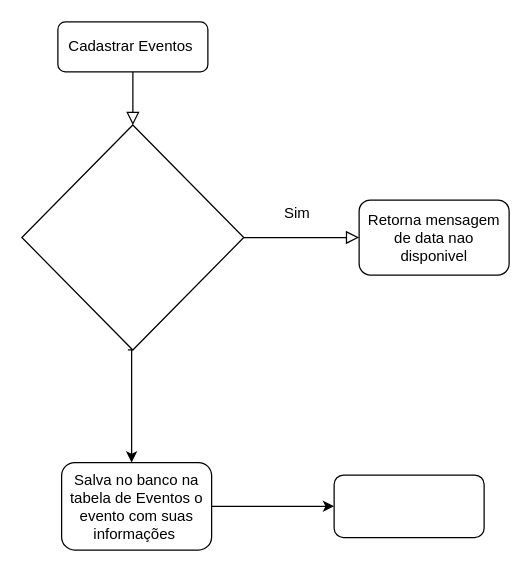
Some shapes in this 531 by 573 pixel diagram are drawn without their labels. The box of each missing label's shape, as (x1, y1, x2, y2) in pixels:
Retorna mensagem de evento agendado junto com a data: (333, 474, 484, 538)
Verifica se a data se esta disponivel: (21, 124, 244, 350)
